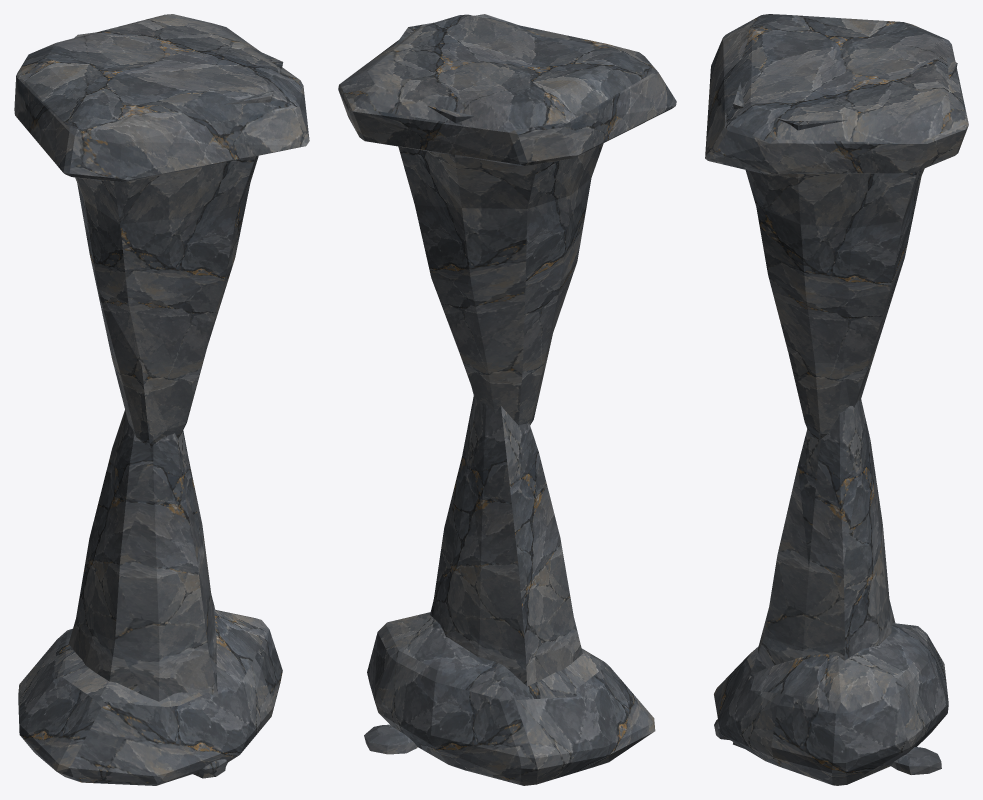
Rendered from Cave_R19_CaveColumn.fbx.
3 renders of one model, left to right at view 1: azimuth 30°, elevation 25°; view 2: azimuth 150°, elevation 25°; view 3: azimuth 270°, elevation 25°, orthographic.
Parts seen in each view (by area): view 1: Cave_R19_CaveColumn_LOD0; view 2: Cave_R19_CaveColumn_LOD0; view 3: Cave_R19_CaveColumn_LOD0.
Boxes of the visible parts, bbox=[...] form: Cave_R19_CaveColumn_LOD0: bbox=[14, 14, 309, 785]; Cave_R19_CaveColumn_LOD0: bbox=[338, 14, 676, 785]; Cave_R19_CaveColumn_LOD0: bbox=[705, 14, 968, 785].
Size of what is drawn, in the model's own units: 1.92 by 4.74 by 1.68.
Materials: 1 (1 with a texture image).
